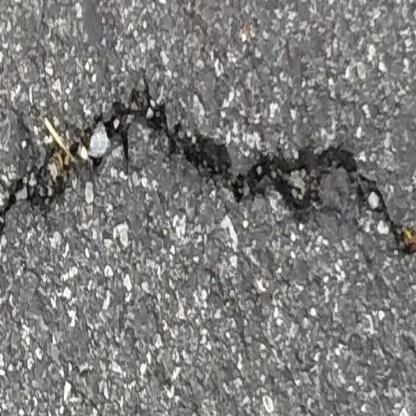Cracks: (0, 75, 416, 272)
